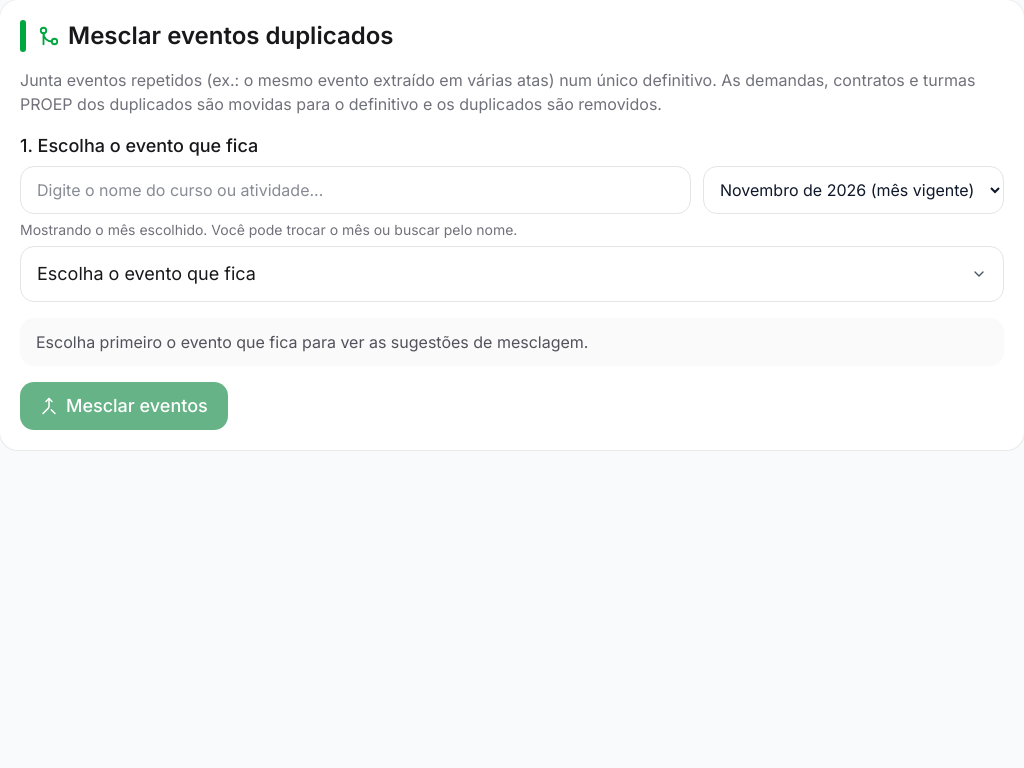
Scenario: escolha do evento definitivo para mesclar › separa mês e ano, ordena por dia e mantém nome, data e local visíveis
Select "Todos os meses" in the dropdown named "Mês do evento definitivo" at (854, 190), box [703,166,1004,214]
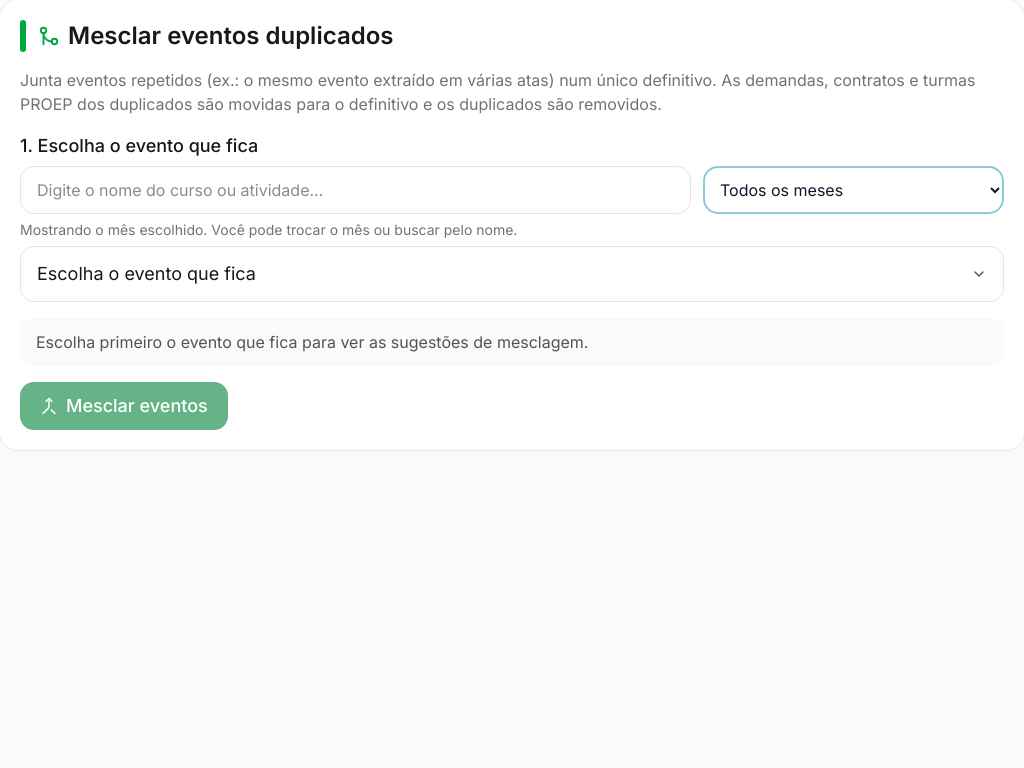
Click the dropdown named "Escolha o evento definitivo".
click(146, 274)  # box [20,246,1004,302]
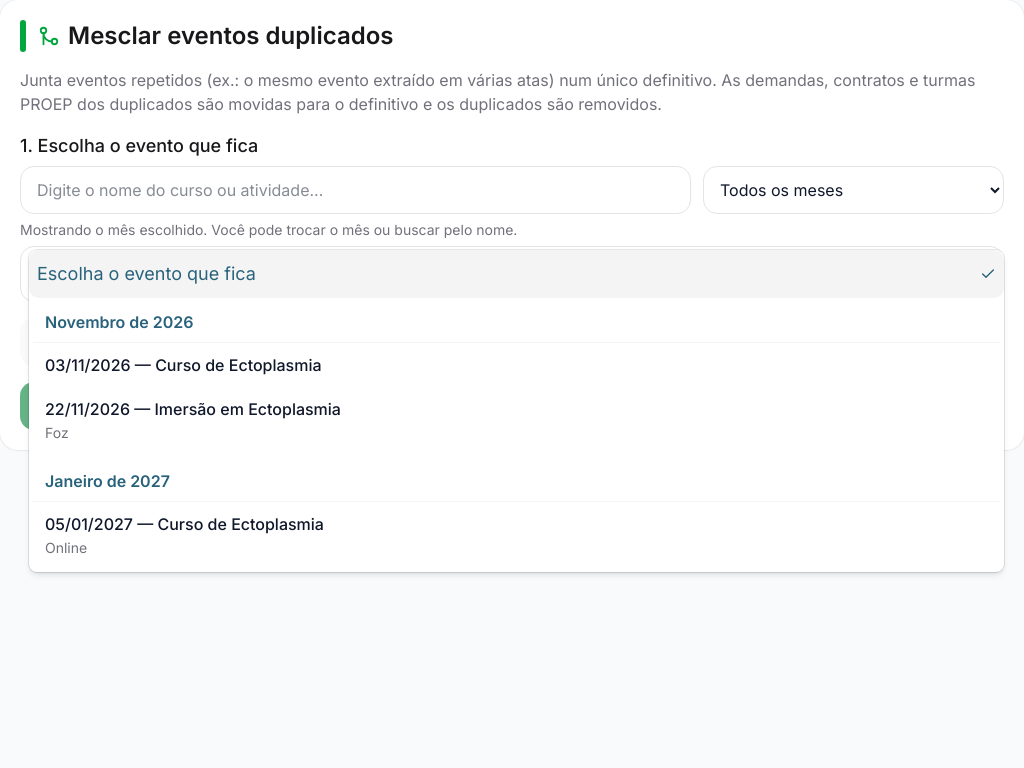
Result: the options read "03/11/2026 — Curso de Ectoplasmia", "22/11/2026 — Imersão em EctoplasmiaFoz", in this order
Click the option "03/11/2026 — Curso de Ectoplasmia".
click(183, 365)  # box [45,355,322,375]
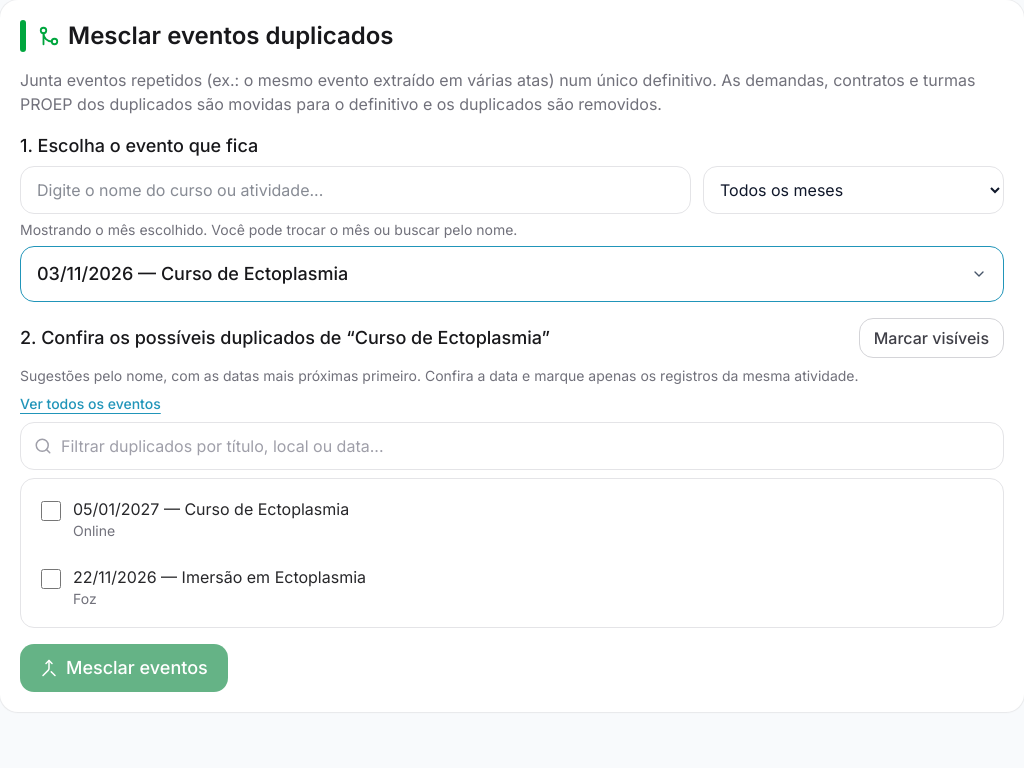
Result: the dropdown named "Escolha o evento definitivo" reads "03/11/2026 — Curso de Ectoplasmia" at [20,246,1004,302]
Result: the checkbox named "Marcar Curso de Ectoplasmia como duplicado" is shown at [41,501,61,521]
Result: the number of checkboxes is 2 at [41,501,61,521]; [41,569,61,589]
